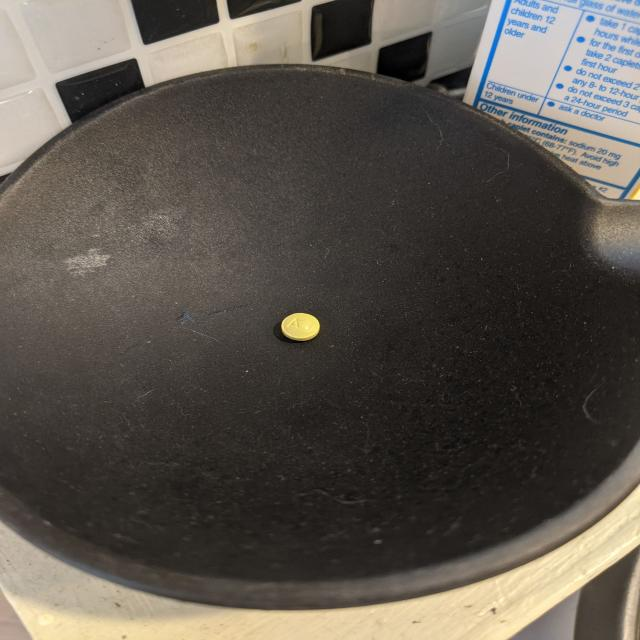non-organic waste: (280, 312, 320, 341)
